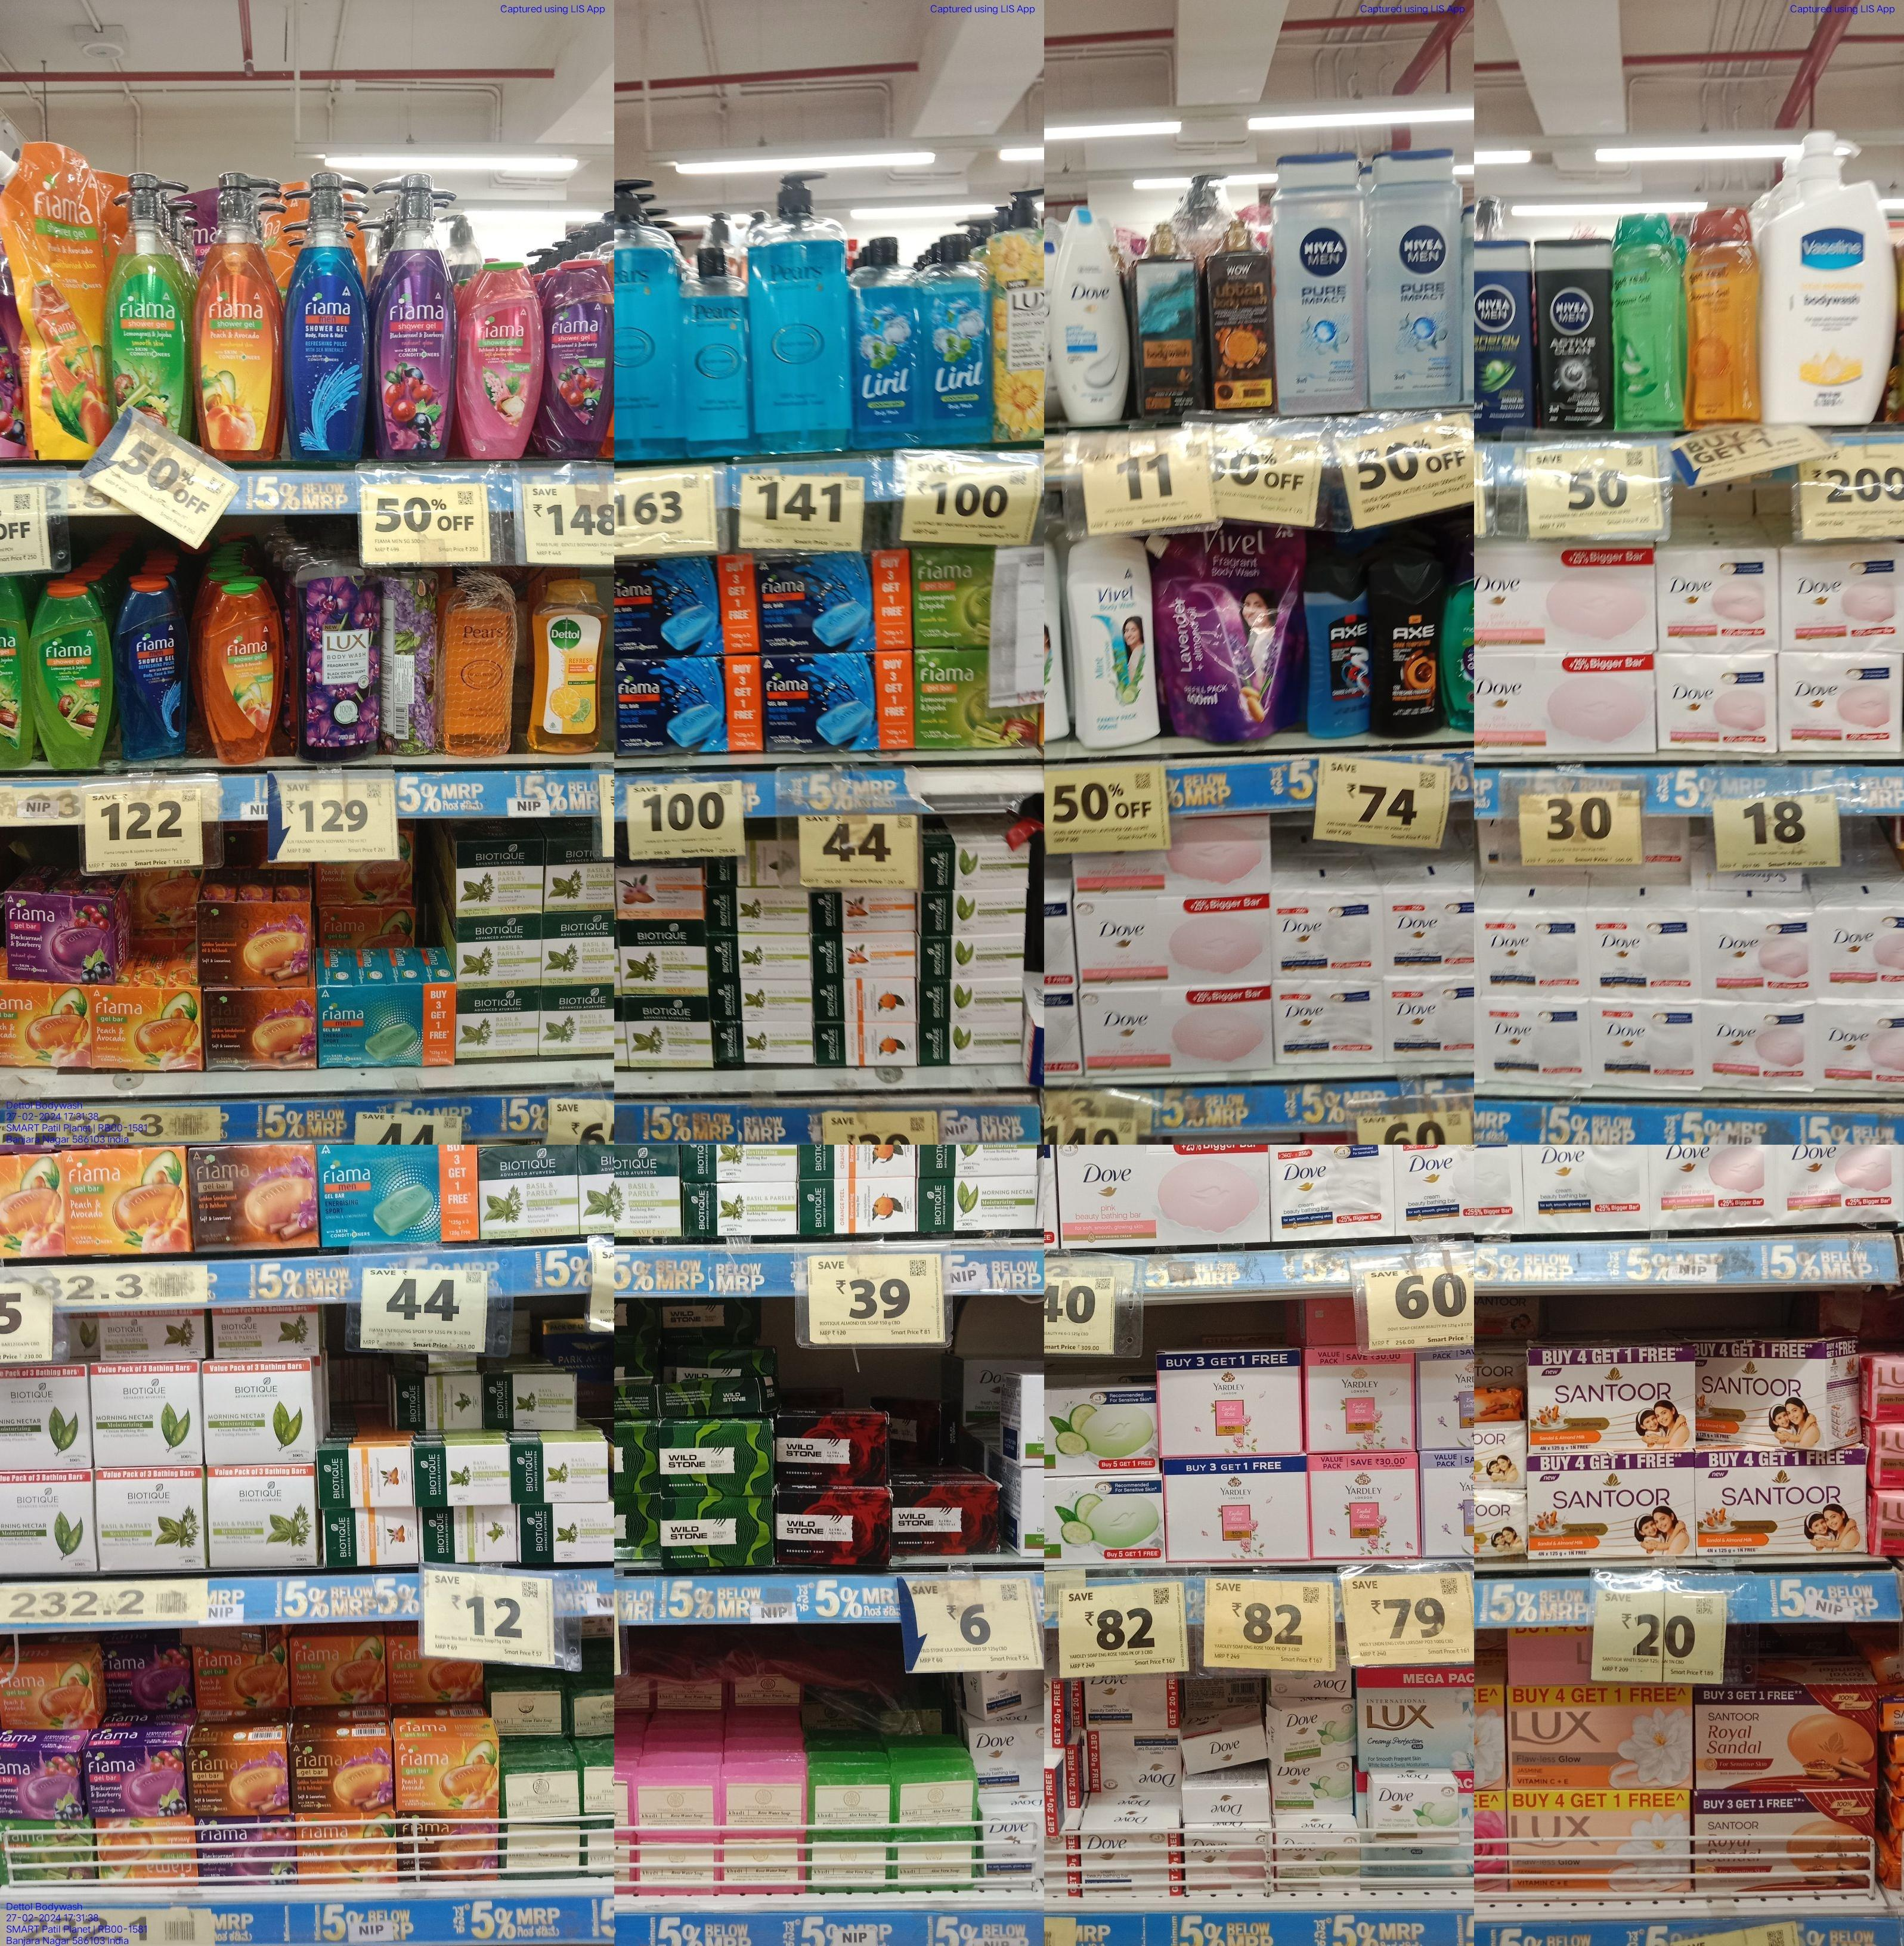Dettol_Bodywash_Refresh: (530, 574, 610, 759)
Dove_Gentle_Exfoliating_Body_Wash_250ML: (1051, 199, 1126, 429)
Fiama_Shower_Gel_Lemongrass_and_Jojoba_250ML: (33, 588, 110, 774)
Fiama_Shower_Gel_Patchouli_and_Macadamia_250ML: (467, 255, 535, 460)
Fiama_Shower_Gel_Peach_and_Avocado_250ML: (207, 575, 279, 764)
Get_Real_Shower_Gel_Moisturising_Glycerin_300ML: (1683, 208, 1756, 424)
Liril_Cooling_Mint_Body_Wash_250ML: (919, 234, 987, 446), (853, 235, 915, 443)
Pears_Pure_Glycerin_and_Mint_Extracts_Body_Wash_250ML: (683, 246, 748, 457)
